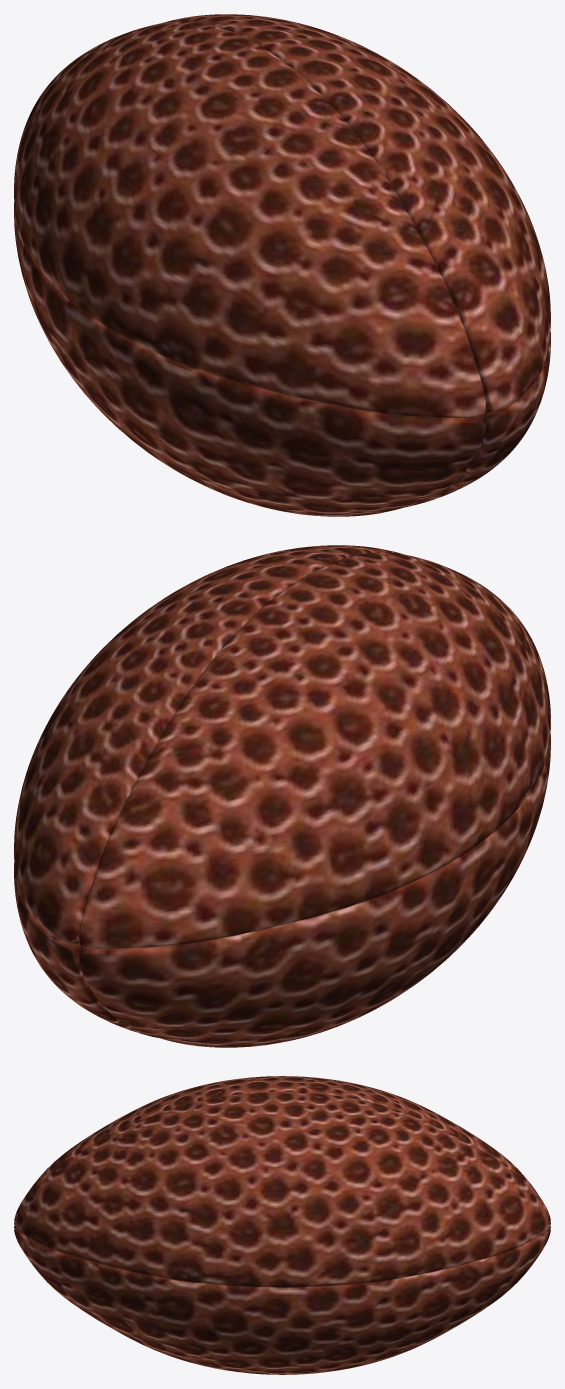
File: Ball sports.fbx
3 views of the same model, one above another, from view 1: azimuth 30°, elevation 25°; view 2: azimuth 150°, elevation 25°; view 3: azimuth 270°, elevation 25° (orthographic). The views are drawn at different scales.
Parts seen in each view (by area): view 1: 12; view 2: 12; view 3: 12.
Part boxes in pixels (x1,y1,x2,y2): 12: (14, 14, 550, 516); 12: (14, 545, 550, 1047); 12: (14, 1076, 550, 1374).
Size of the model in its own units: 205 by 205 by 369.
1 material, 1 textured.
